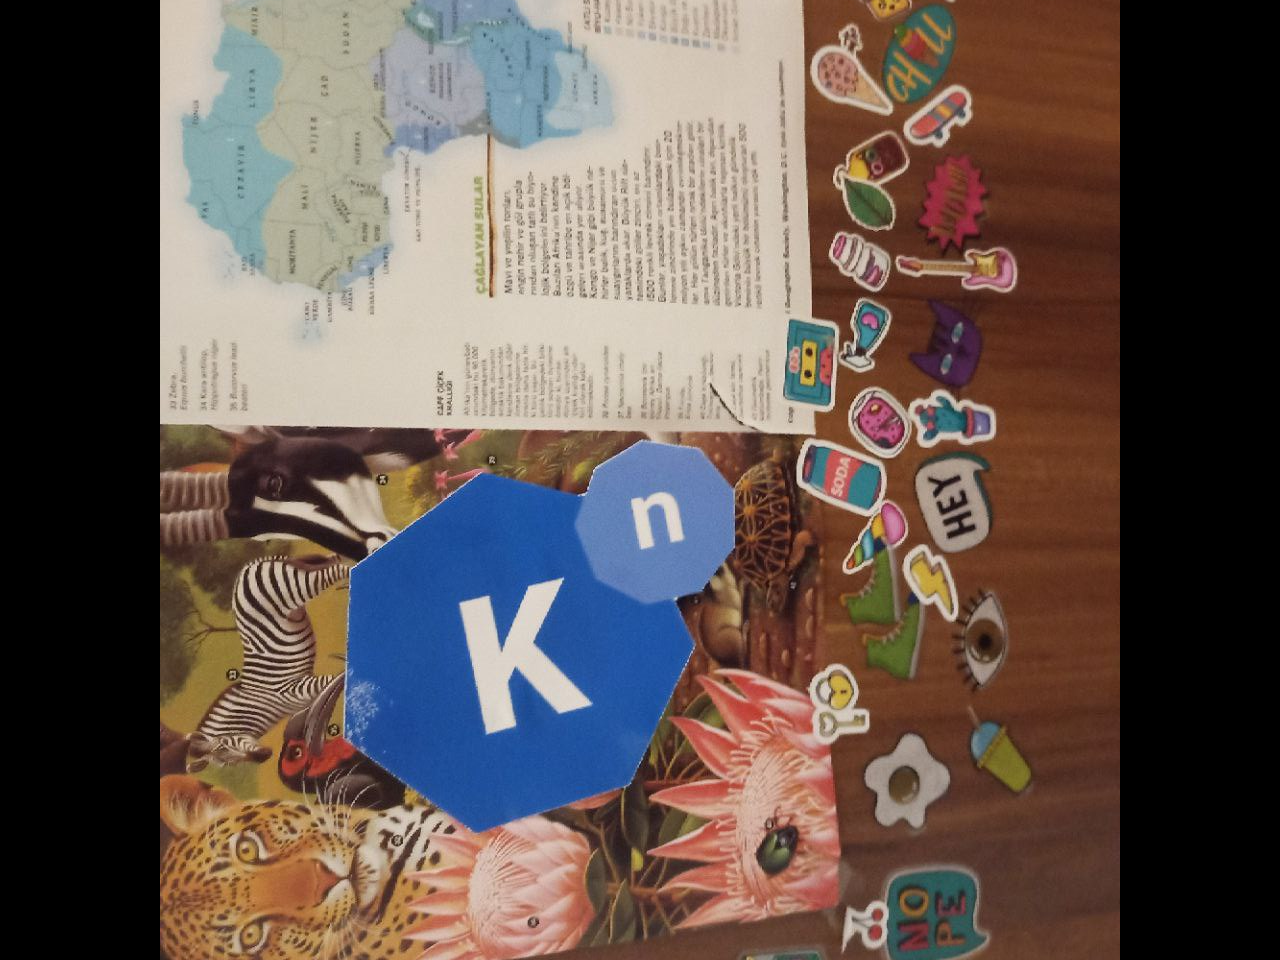knative: (341, 441, 737, 834)
